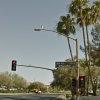Tree: (47, 1, 100, 64)
